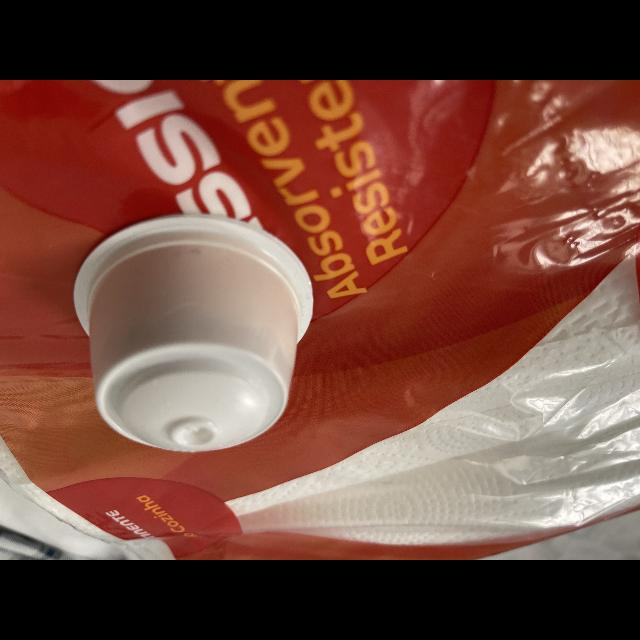intact_capsule: (65, 203, 349, 462)
